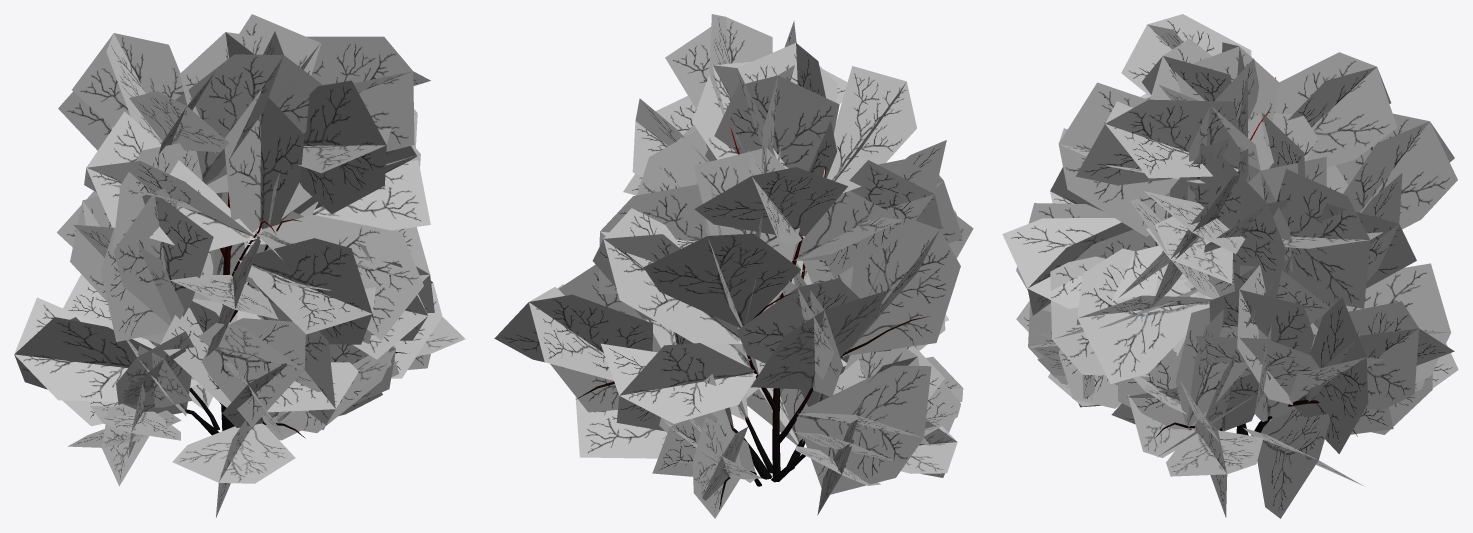
File: Bush_A_07.fbx
3 renders of one model, left to right at view 1: azimuth 30°, elevation 25°; view 2: azimuth 150°, elevation 25°; view 3: azimuth 270°, elevation 25°, orthographic.
Parts seen in each view (by area): view 1: Bush_A_07_LOD0; view 2: Bush_A_07_LOD0; view 3: Bush_A_07_LOD0.
Boxes of the visible parts, <box> form: Bush_A_07_LOD0: <box>14,14,465,517</box>; Bush_A_07_LOD0: <box>494,14,973,518</box>; Bush_A_07_LOD0: <box>1002,14,1458,518</box>.
Size of what is drawn, in the model's own units: 650 by 660 by 665.
